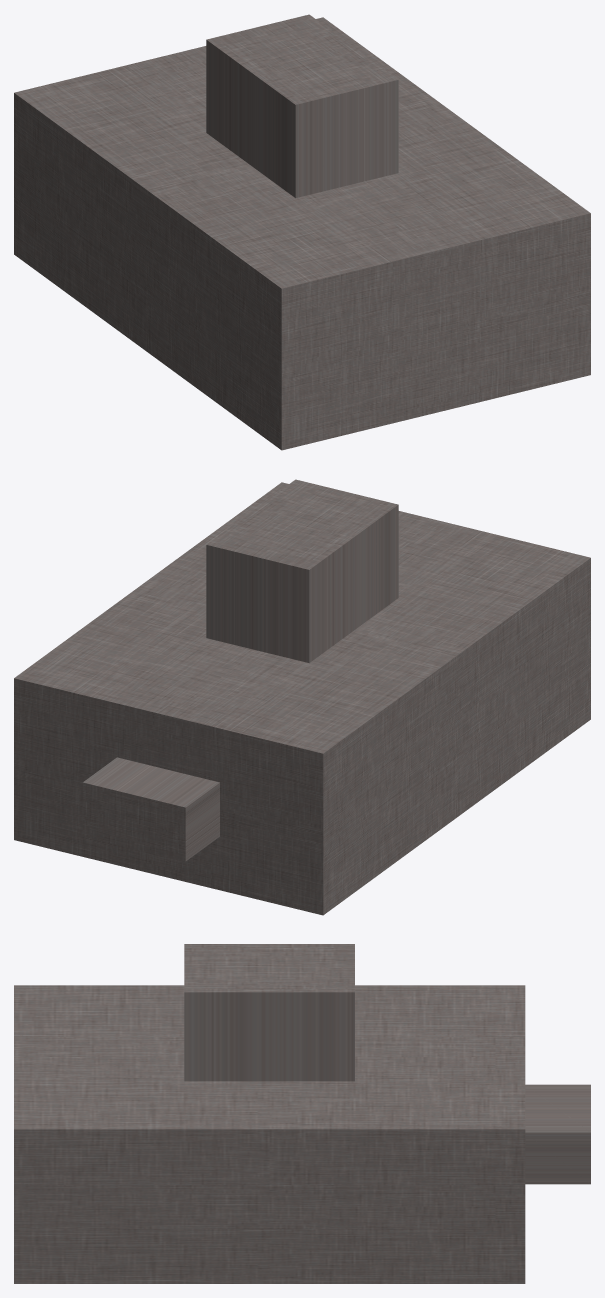
Rendered from Rectangulo.DAE.
The picture shows the model from 3 angles, top to bottom: view 1: azimuth 30°, elevation 25°; view 2: azimuth 150°, elevation 25°; view 3: azimuth 270°, elevation 25°; orthographic projection. The views are drawn at different scales.
Parts seen in each view (by area): view 1: Box_Rectangulo01; view 2: Box_Rectangulo01; view 3: Box_Rectangulo01.
Part boxes in pixels (<box>): Box_Rectangulo01: <box>14,14,590,450</box>; Box_Rectangulo01: <box>14,479,590,915</box>; Box_Rectangulo01: <box>14,944,590,1283</box>.
Bounding box in the file's own units: 2 × 3.38 × 1.58.
1 material, 1 textured.
